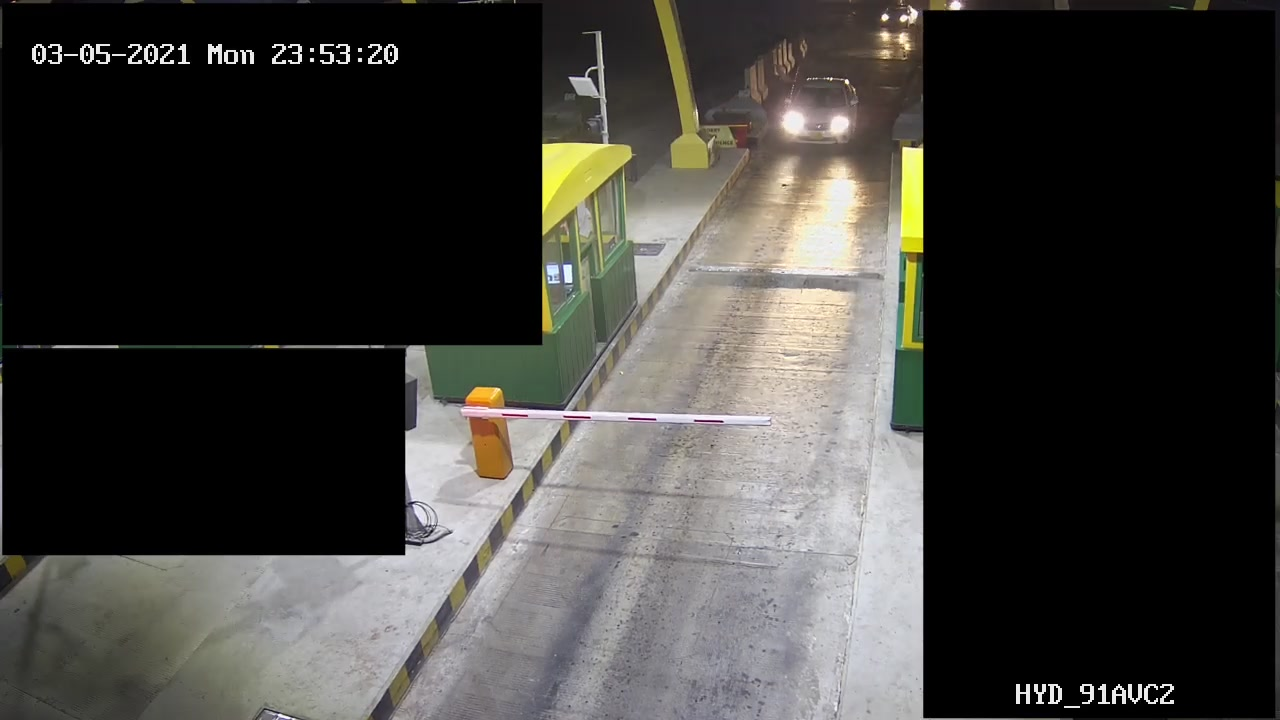F1: (775, 72, 863, 152)
